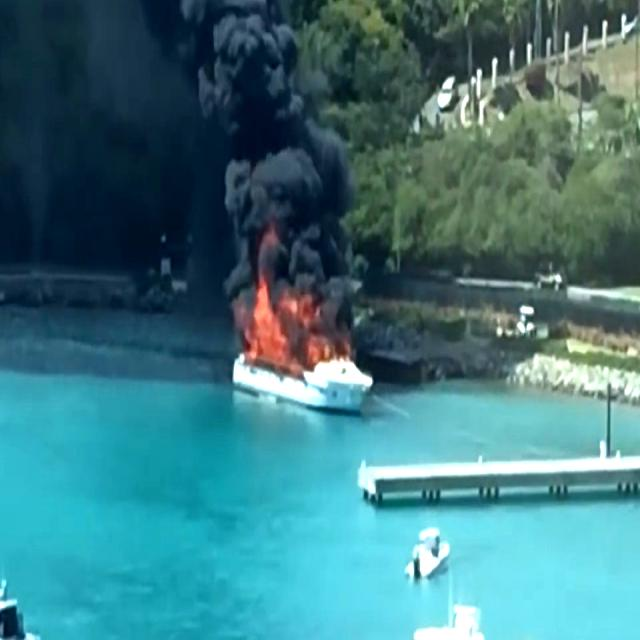smoke: (240, 99, 340, 288)
